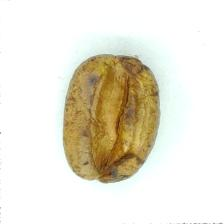NG: (84, 59, 139, 178)
